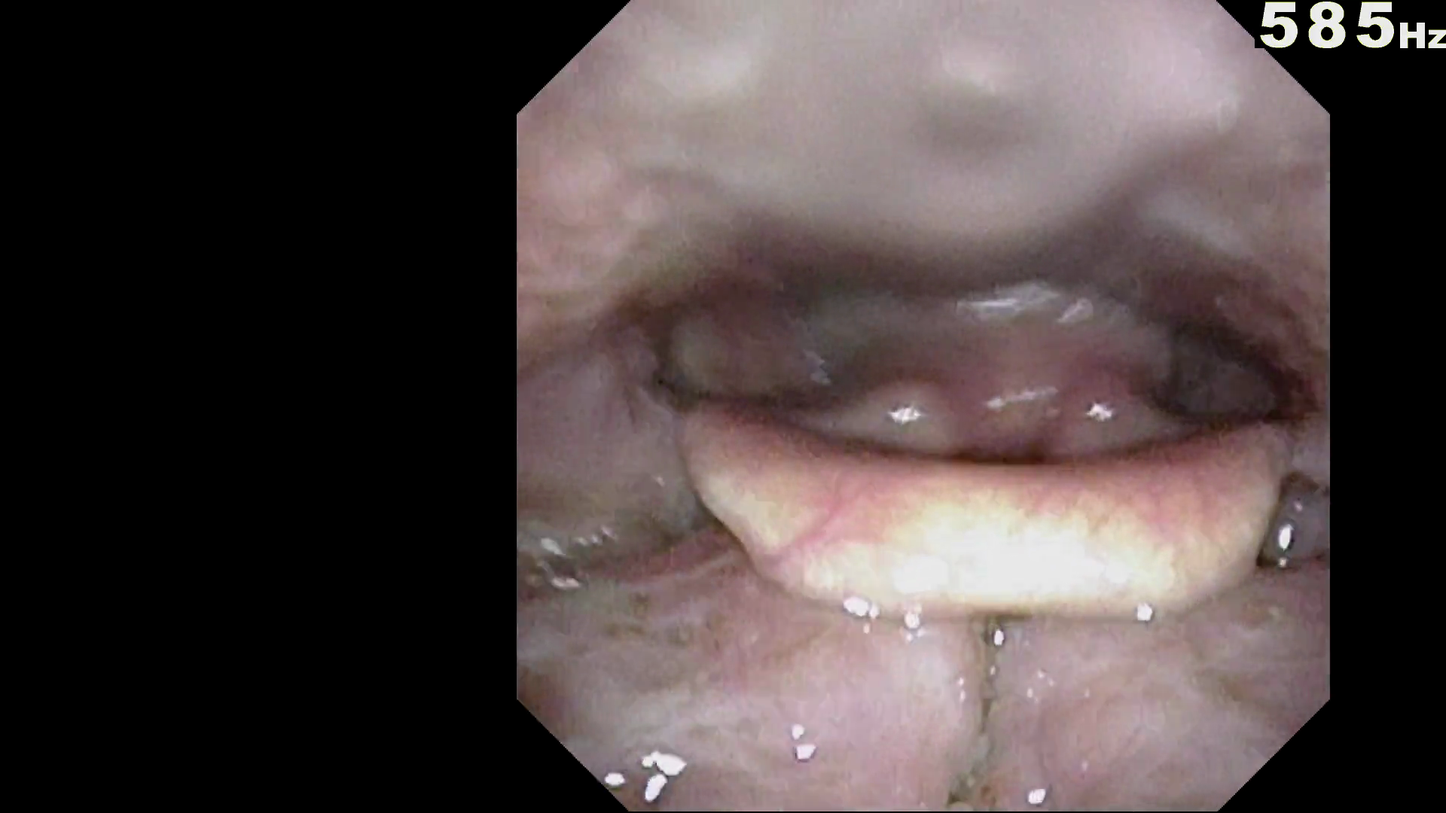epiglottis: (655, 396, 1321, 646)
trachea: (933, 425, 1063, 498)
